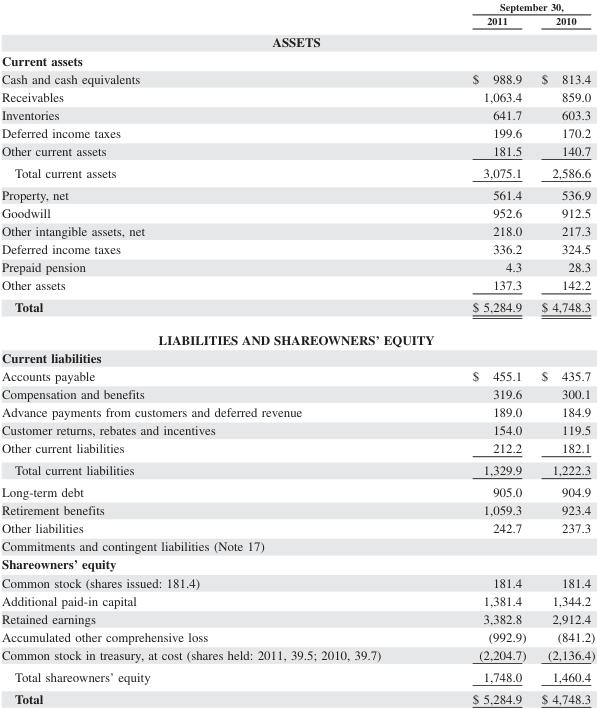table: (0, 0, 594, 705)
table column: (0, 0, 426, 705), (426, 0, 533, 705), (533, 0, 594, 705)
table column header: (0, 0, 594, 30)
table projected row header: (0, 322, 594, 348), (0, 30, 594, 50), (0, 50, 594, 69), (0, 554, 594, 573), (0, 348, 594, 366), (0, 536, 594, 554)
table row: (0, 295, 594, 322), (0, 322, 594, 348), (0, 161, 594, 183), (0, 458, 594, 480), (0, 665, 594, 687), (0, 30, 594, 50), (0, 141, 594, 161), (0, 183, 594, 203), (0, 275, 594, 295), (0, 438, 594, 458), (0, 480, 594, 500), (0, 645, 594, 665), (0, 50, 594, 69), (0, 554, 594, 573), (0, 69, 594, 87), (0, 87, 594, 105), (0, 105, 594, 123), (0, 123, 594, 141), (0, 203, 594, 221), (0, 221, 594, 239), (0, 239, 594, 257), (0, 257, 594, 275), (0, 348, 594, 366), (0, 366, 594, 384), (0, 384, 594, 402), (0, 402, 594, 420), (0, 420, 594, 438), (0, 500, 594, 518), (0, 518, 594, 536), (0, 536, 594, 554), (0, 573, 594, 591), (0, 591, 594, 609), (0, 609, 594, 627), (0, 627, 594, 645), (0, 687, 594, 705), (0, 13, 594, 30), (0, 0, 594, 13)
table spanning cell: (426, 0, 594, 13)
